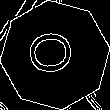O_E: (27, 30, 83, 80)
